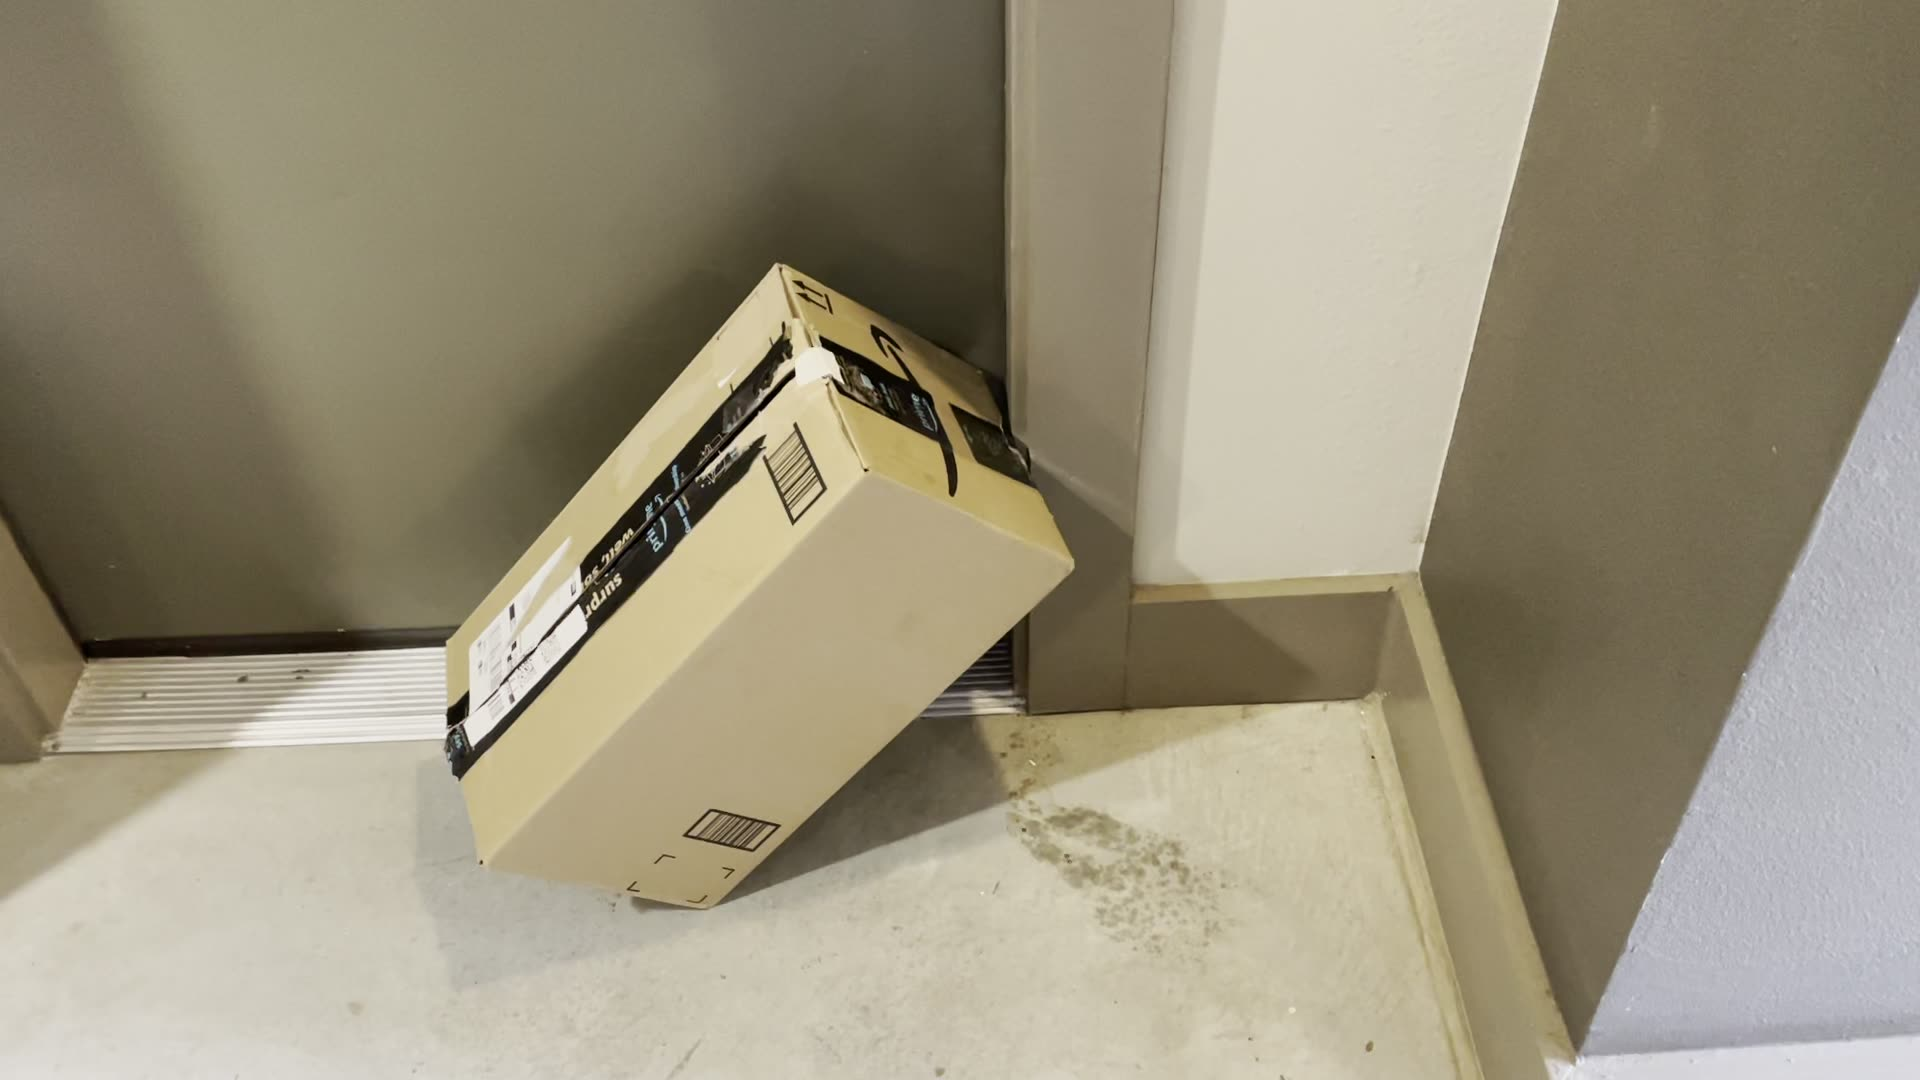box: (465, 222, 1054, 949)
